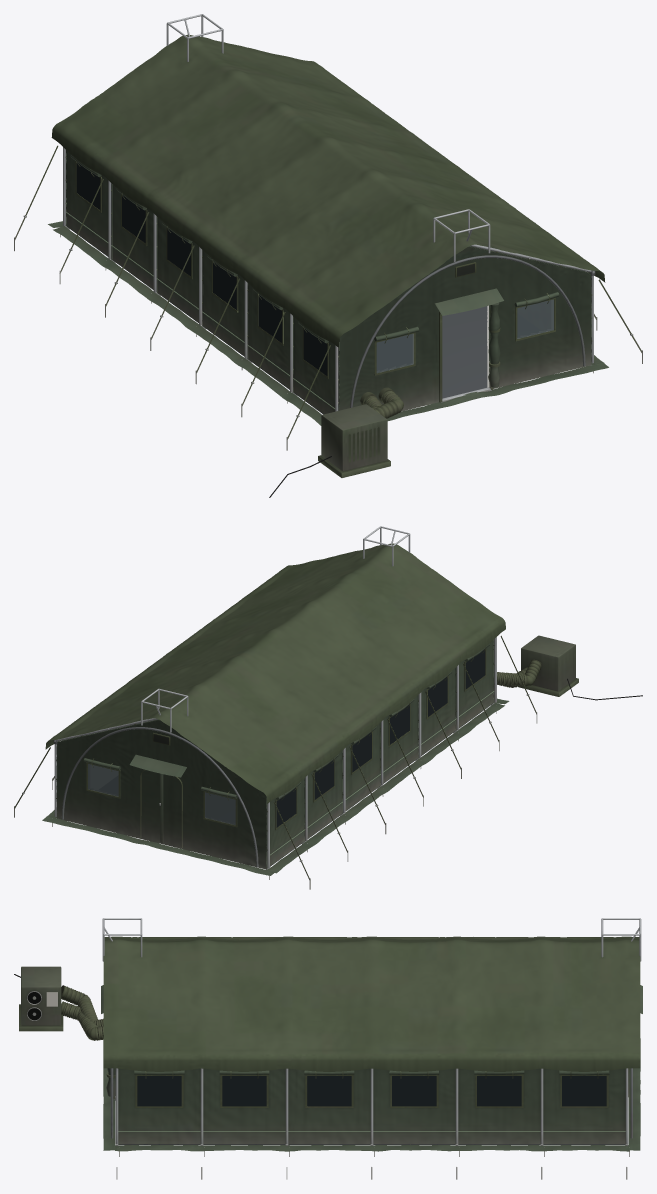
The model's file is rdmss-ar.glb.
3 renders of one model, top to bottom at view 1: azimuth 30°, elevation 25°; view 2: azimuth 150°, elevation 25°; view 3: azimuth 270°, elevation 25°, orthographic. The views are drawn at different scales.
Visible parts, largest first — view 1: RDMSS_solar_shade, RDMSS_shelter, RDMSS_frame; view 2: RDMSS_solar_shade, RDMSS_shelter, RDMSS_frame; view 3: RDMSS_solar_shade, RDMSS_shelter, RDMSS_frame.
Part boxes in pixels (x1,y1,x2,y2): RDMSS_solar_shade: [14, 34, 642, 450]; RDMSS_shelter: [48, 150, 608, 497]; RDMSS_frame: [60, 14, 595, 411]; RDMSS_solar_shade: [14, 543, 537, 889]; RDMSS_shelter: [42, 635, 642, 875]; RDMSS_frame: [52, 526, 496, 879]; RDMSS_solar_shade: [103, 936, 640, 1179]; RDMSS_shelter: [14, 966, 642, 1151]; RDMSS_frame: [102, 918, 641, 1156].
Size of the model in its own units: 10.37 by 4.26 by 14.1.
Materials: 19 (8 with a texture image).
